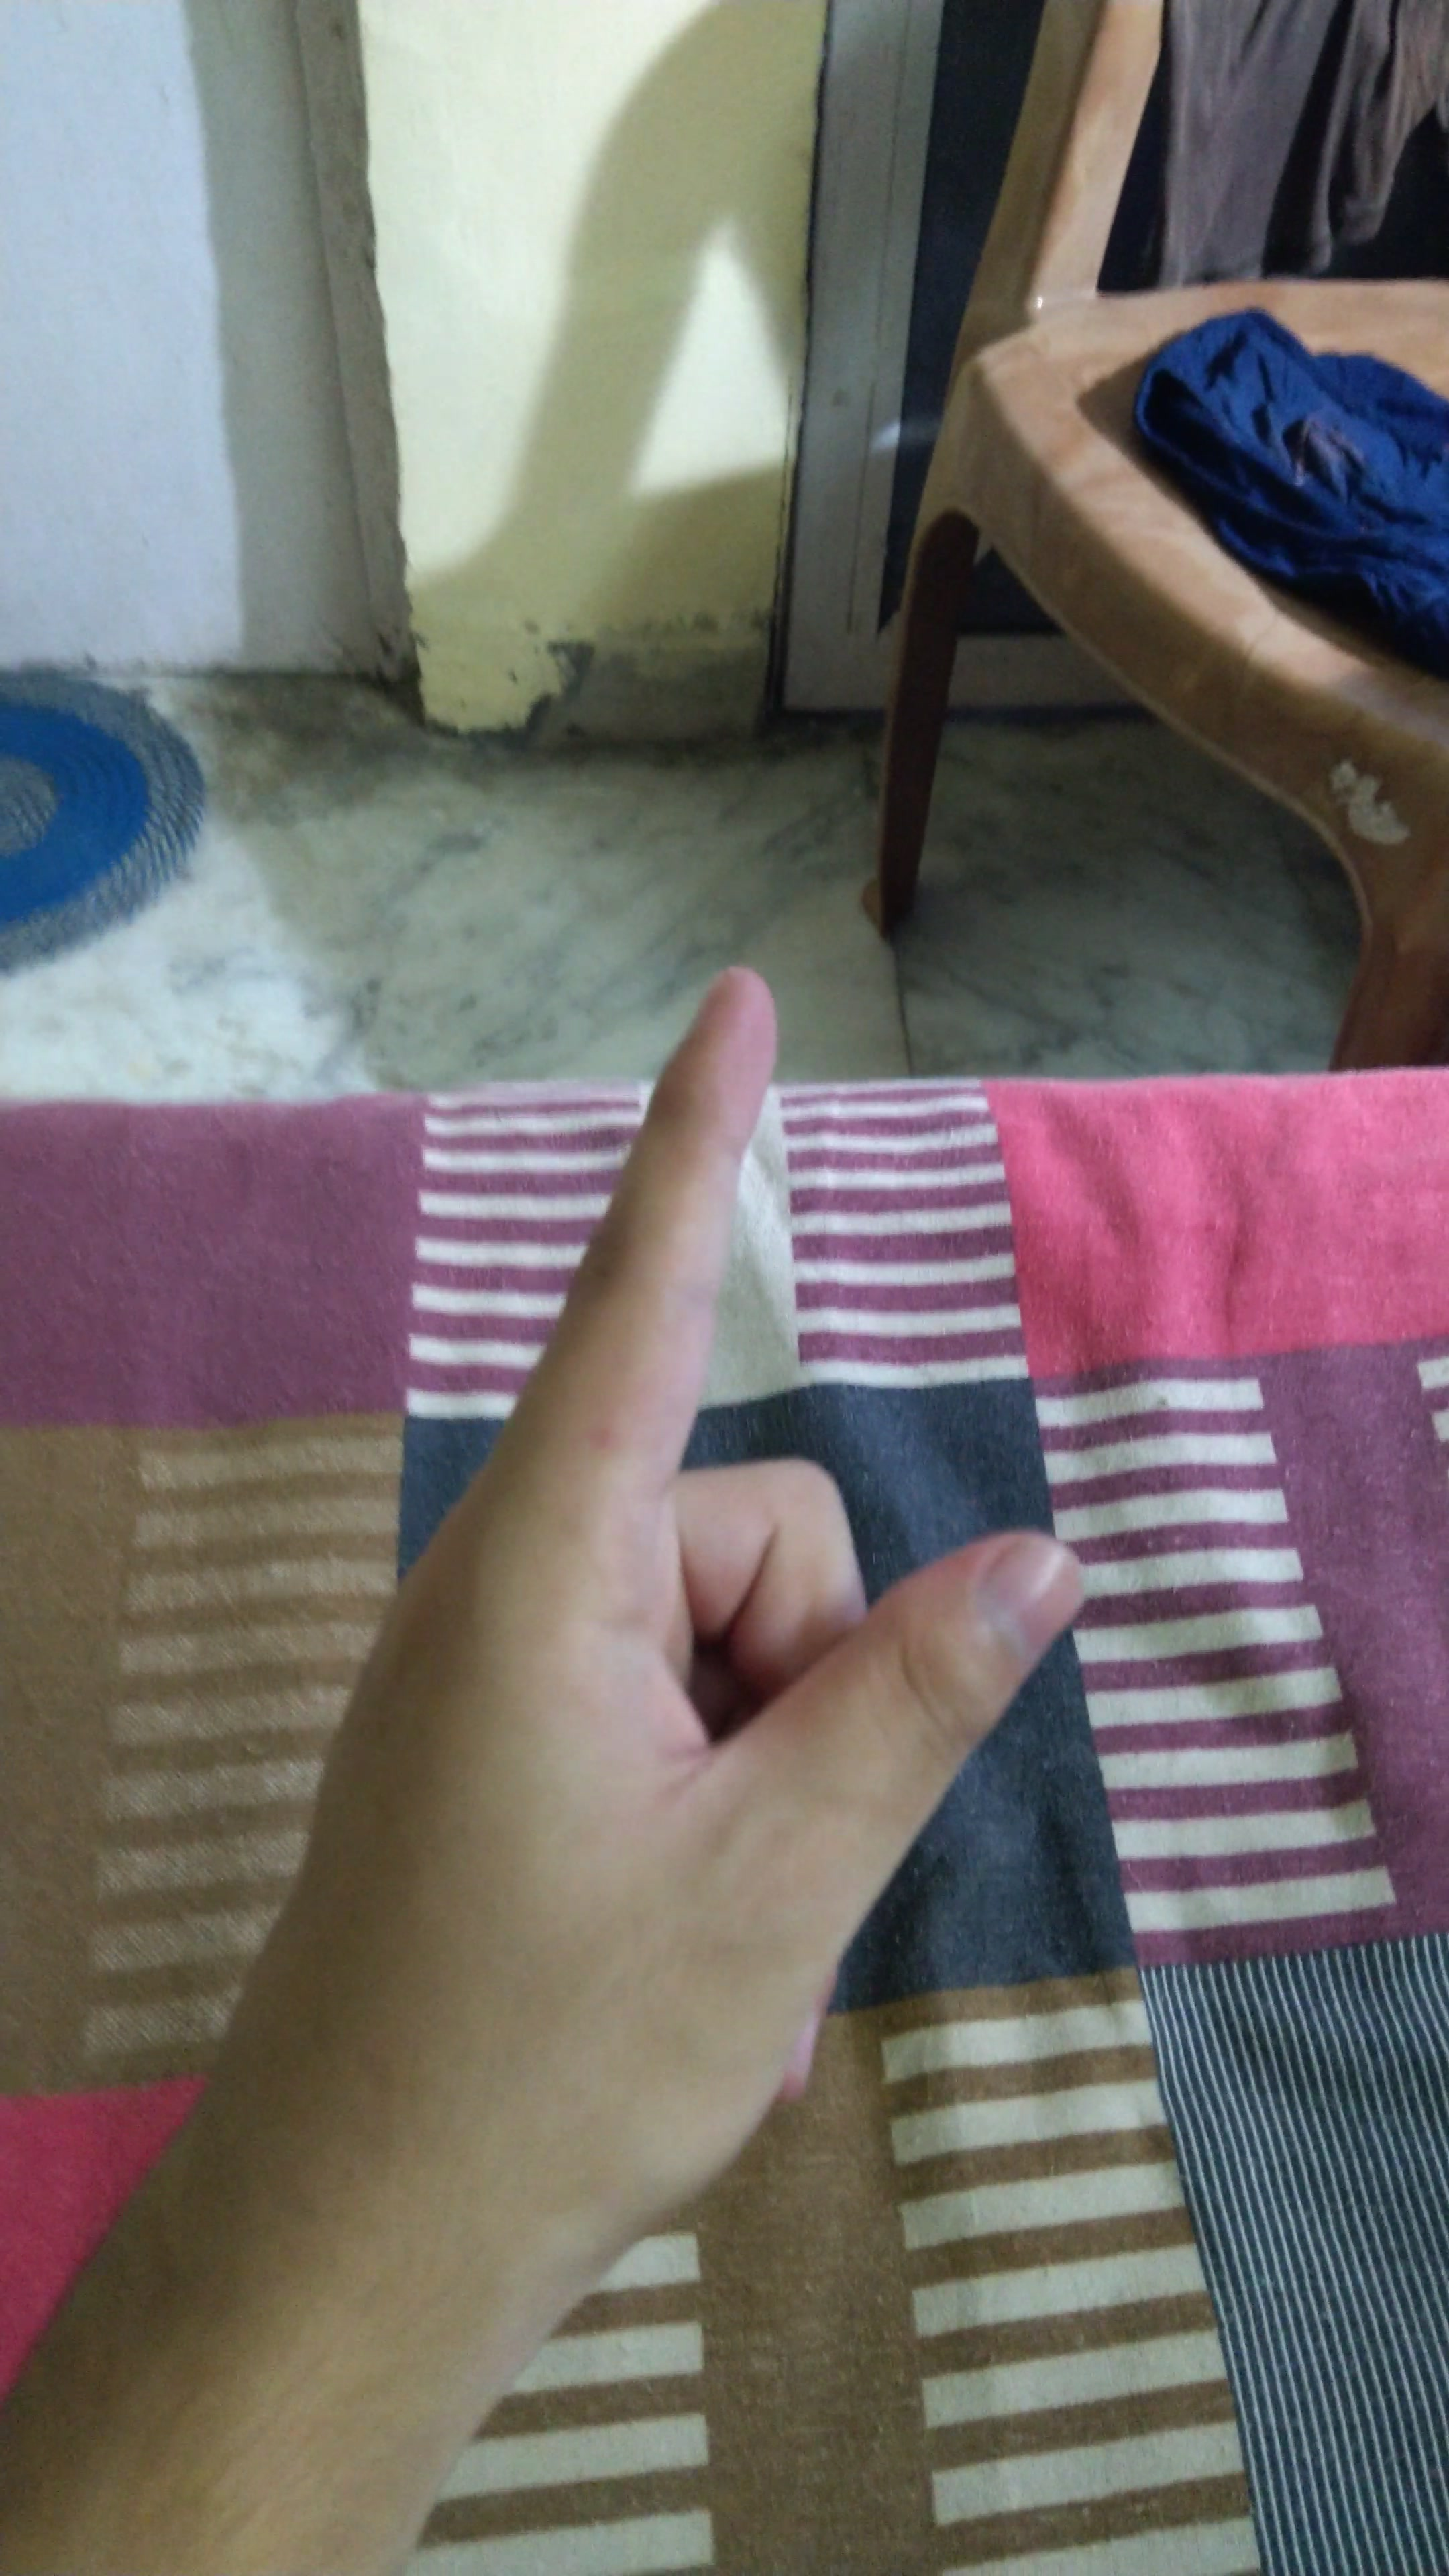hand: (205, 922, 1175, 2213)
